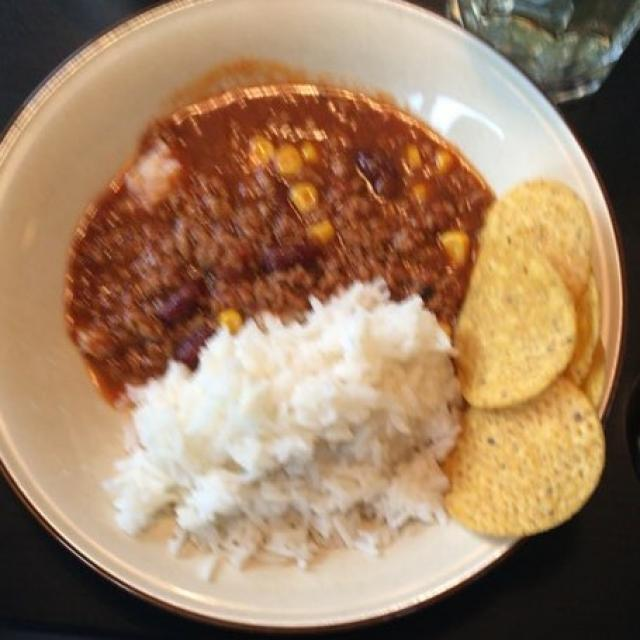chili-con-carne: (62, 102, 485, 402)
corn-crisps: (446, 174, 603, 534)
rice: (101, 290, 467, 560)
